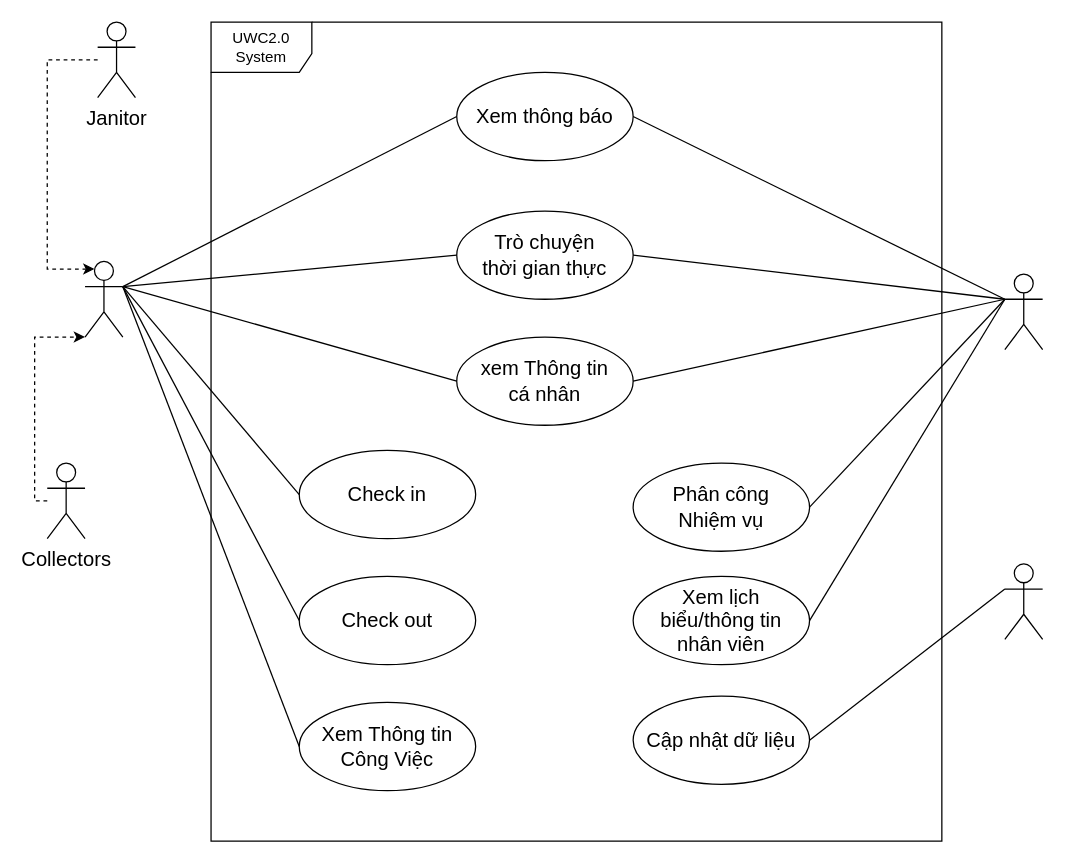
Image size: 1077x863. Some labels were removed from this diagram. Each missing label, with the centre of its shape:
"back officer" goes at [1023,311].
"MCP system" goes at [1023,601].
"worker" goes at [103,298].
